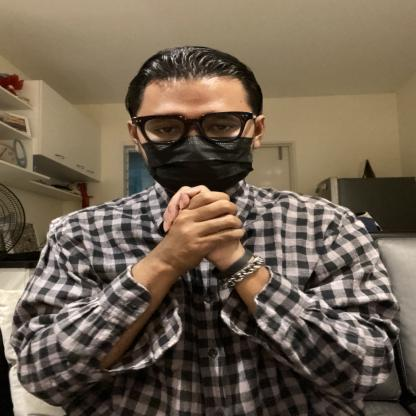Grieve: (83, 160, 350, 286)
